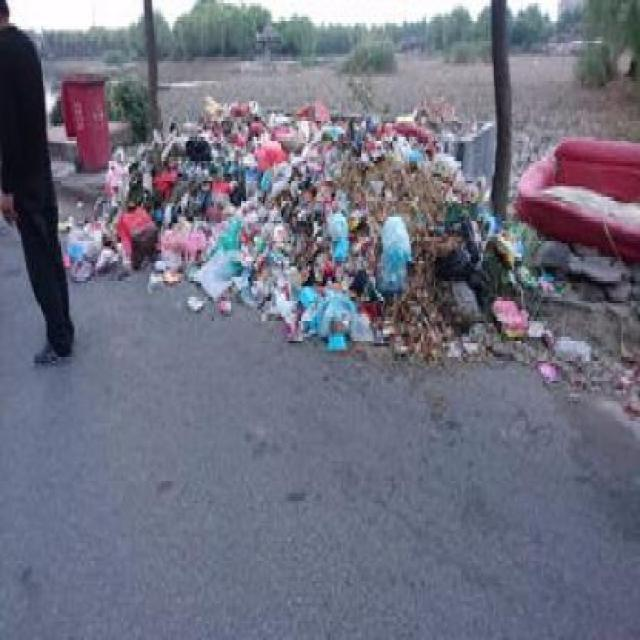garbage: (100, 106, 457, 276), (288, 191, 498, 351)
